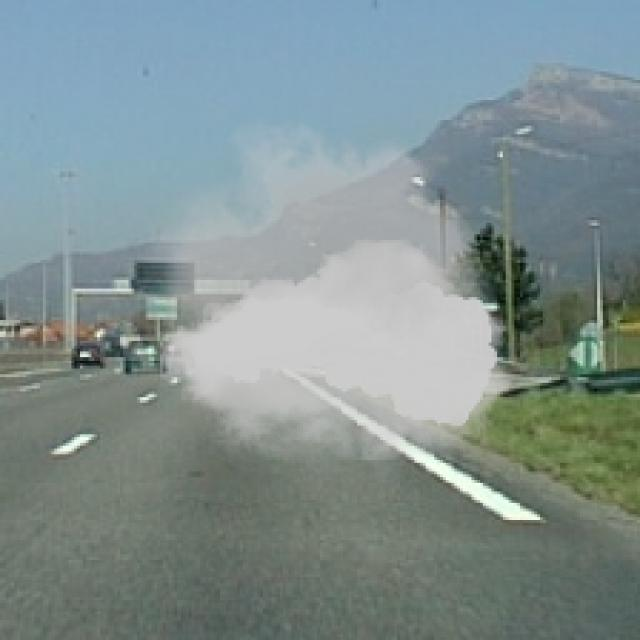smoke: (134, 100, 523, 491)
